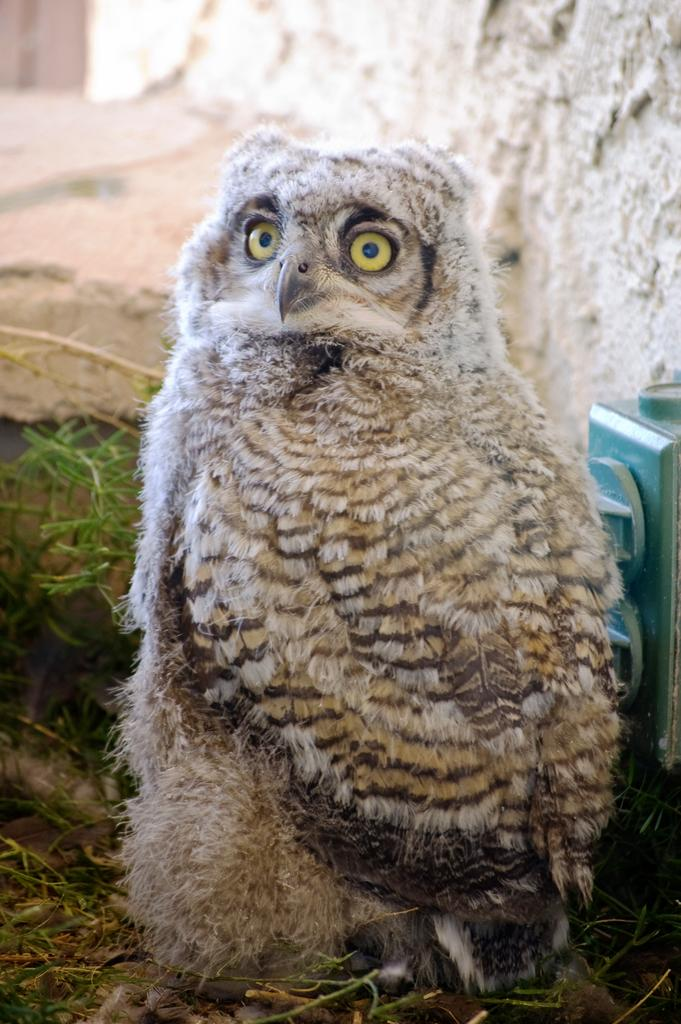Owl: (109, 127, 633, 997)
